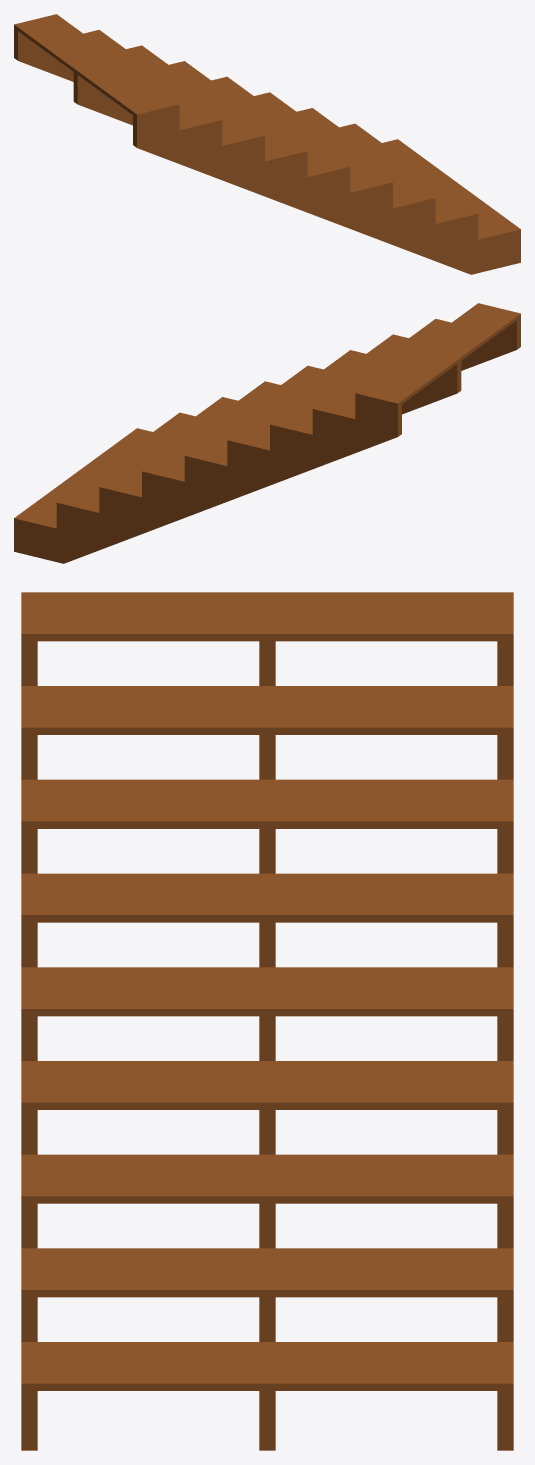
File: Buildings_Wooden_Stairs_01.fbx
The picture shows the model from 3 angles, top to bottom: view 1: azimuth 30°, elevation 25°; view 2: azimuth 150°, elevation 25°; view 3: azimuth 270°, elevation 25°; orthographic projection. The views are drawn at different scales.
Parts seen in each view (by area): view 1: Model; view 2: Model; view 3: Model.
Part boxes in pixels (<box>): Model: <box>14,14,520,274</box>; Model: <box>14,303,520,563</box>; Model: <box>21,592,513,1450</box>.
Size of the model in its own units: 780 by 470 by 433.
